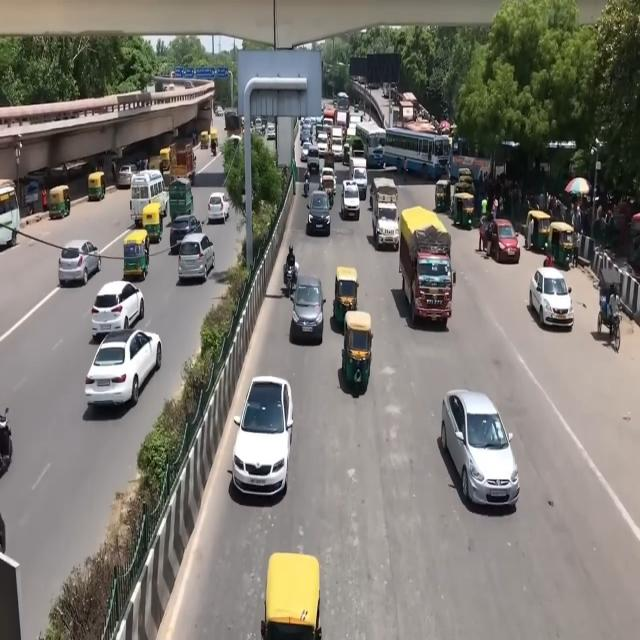auto: (262, 551, 321, 638), (338, 308, 381, 404), (332, 266, 359, 331), (123, 229, 152, 279), (0, 181, 21, 249), (168, 178, 194, 222), (84, 170, 111, 205), (142, 202, 163, 244), (453, 192, 475, 230), (48, 184, 71, 219), (435, 178, 451, 212), (159, 147, 172, 172), (148, 155, 164, 175), (200, 130, 209, 149), (210, 128, 218, 149)
bike-auto: (281, 239, 301, 304)
